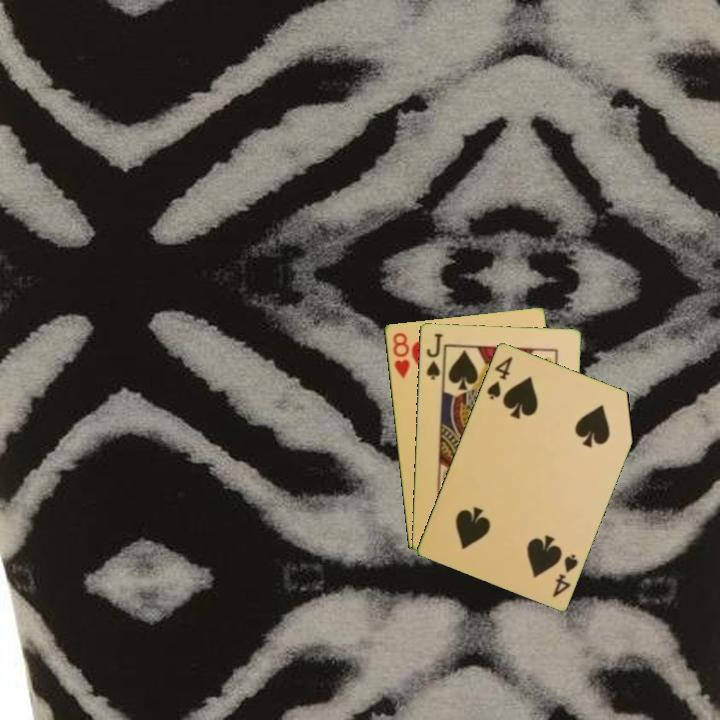4s: (483, 352, 515, 402), (549, 550, 581, 600)
8h: (389, 329, 412, 380)
Js: (423, 329, 445, 383)
